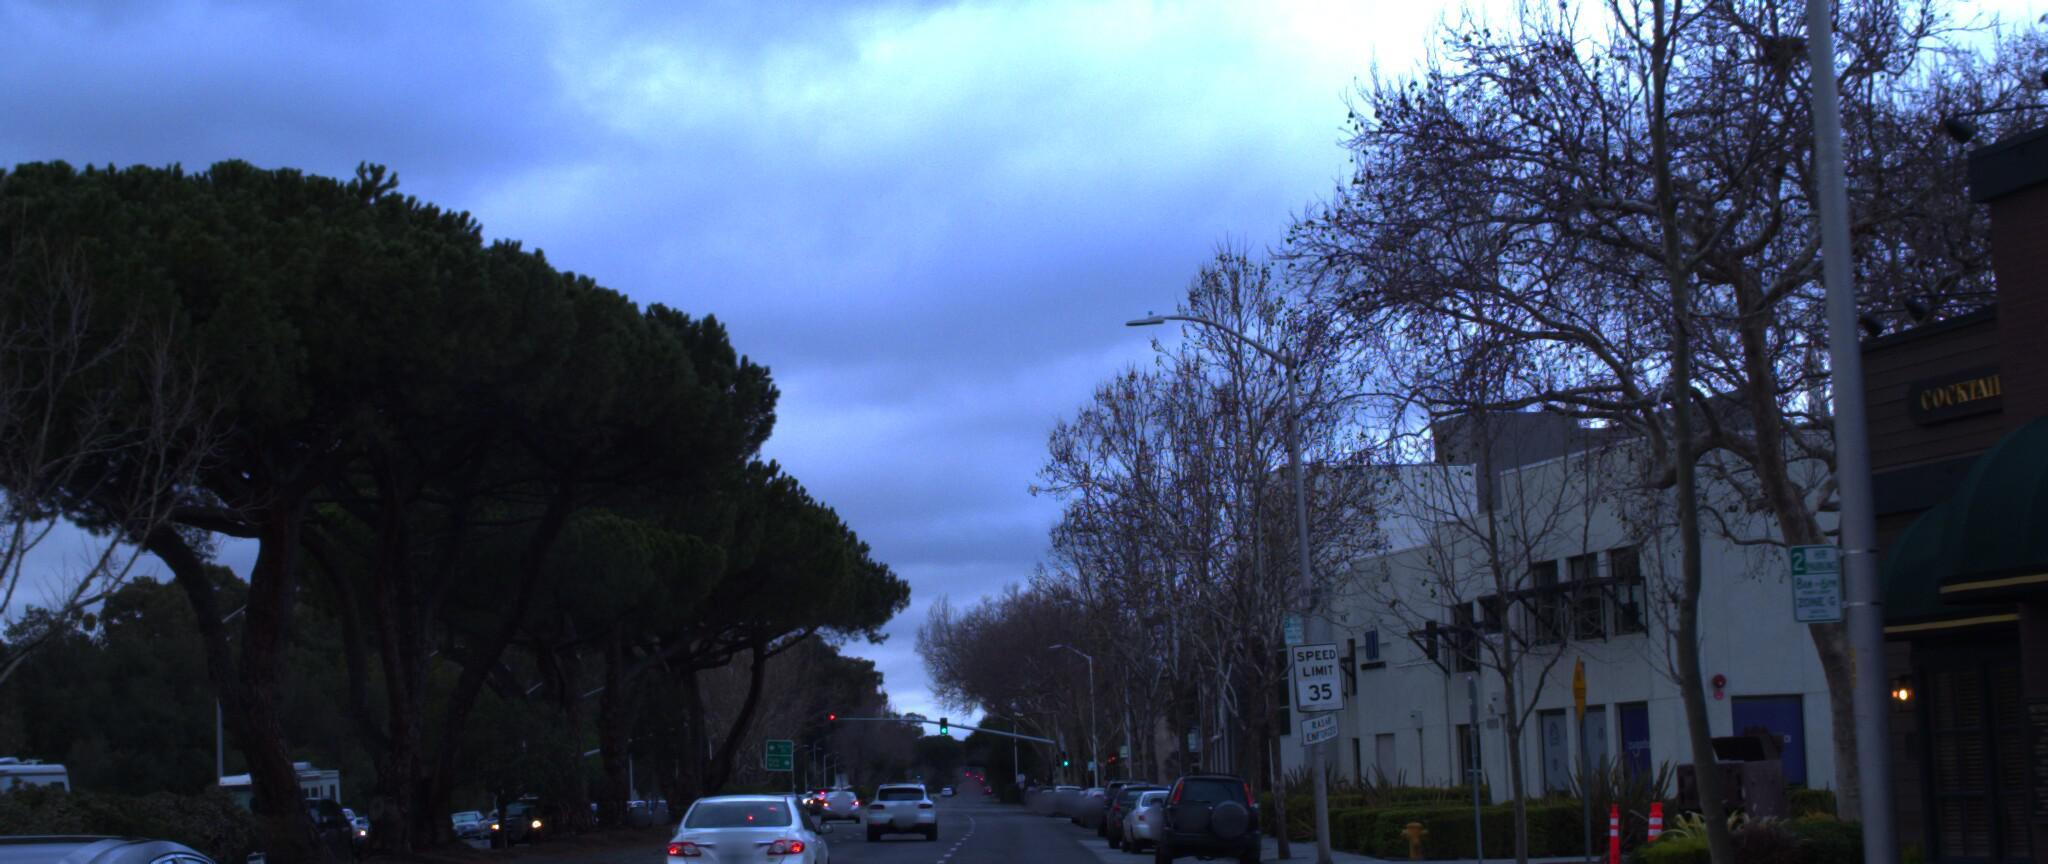car: (1882, 496, 2048, 864), (0, 807, 398, 864), (650, 777, 833, 864), (1148, 757, 1260, 864), (859, 780, 938, 838)
other_vehicle: (0, 737, 82, 864)
